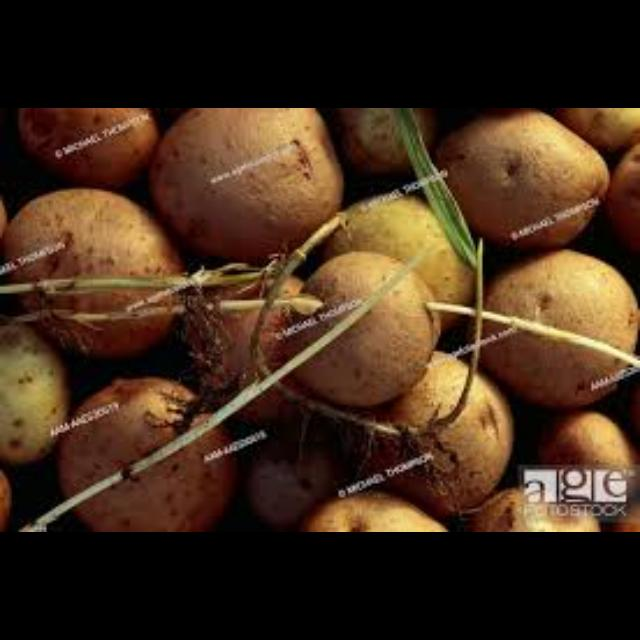Sprouted potato: (236, 222, 462, 432), (0, 184, 182, 358)
